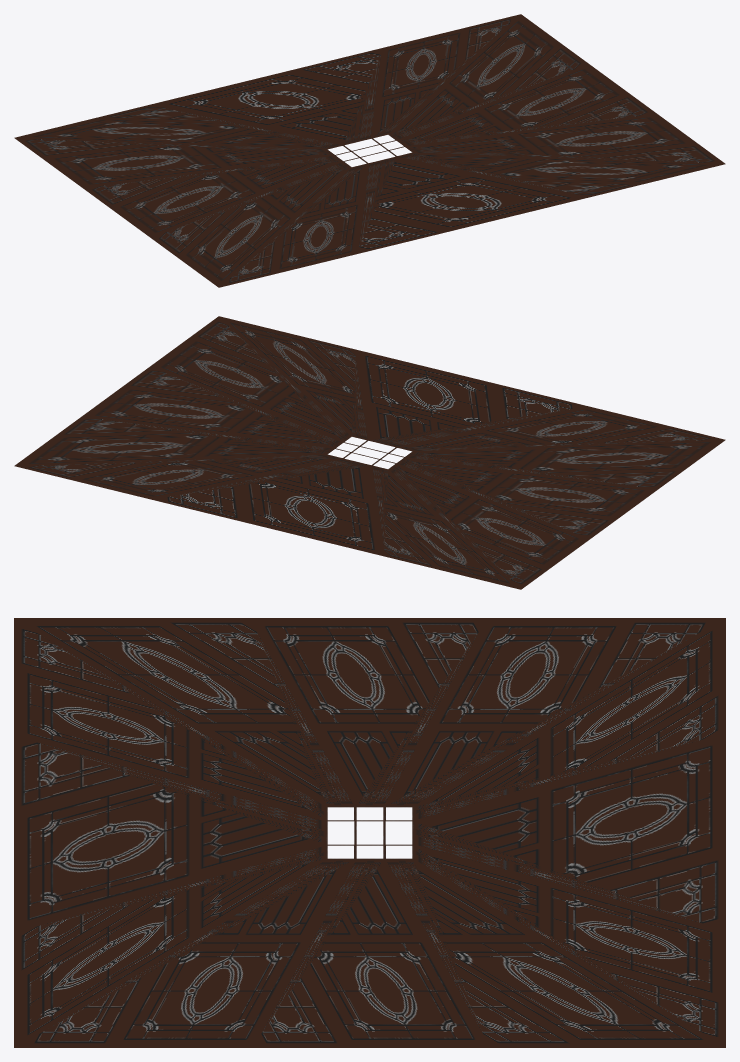
File: Skylight_Lightblock.fbx
The picture shows the model from 3 angles, top to bottom: view 1: azimuth 30°, elevation 25°; view 2: azimuth 150°, elevation 25°; view 3: azimuth 270°, elevation 25°; orthographic projection. The views are drawn at different scales.
Visible parts, largest first — view 1: Plane.001; view 2: Plane.001; view 3: Plane.001.
Boxes of the visible parts, left/top/right/bottom form: Plane.001: left=14, top=14, right=725, bottom=287; Plane.001: left=14, top=316, right=725, bottom=589; Plane.001: left=14, top=618, right=725, bottom=1047.
Size of the model in its own units: 6080 by 0.000693 by 4255.
